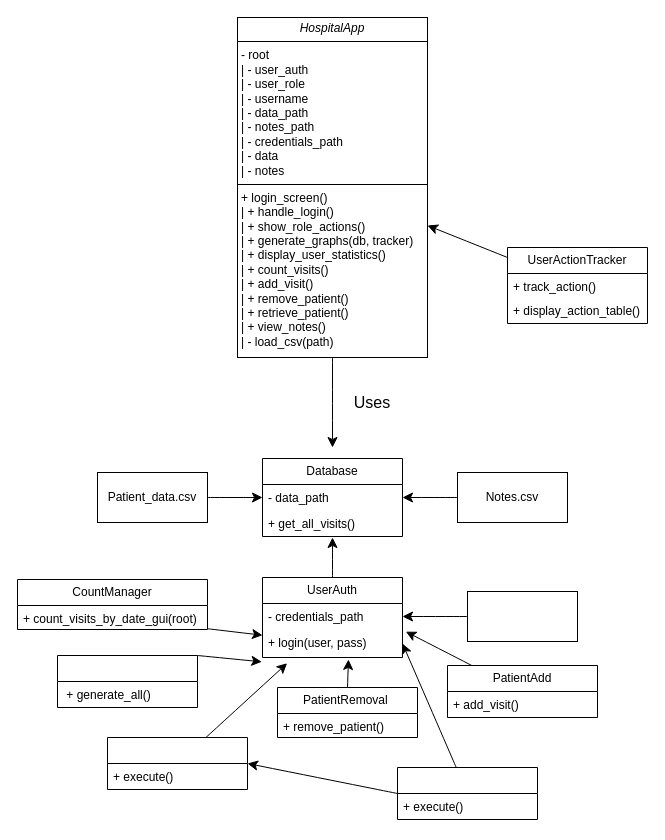
Some shapes in this 665 by 840 pixel diagram are drawn without their labels. Each missing label, with the box of its shape:
Credentials.csv: (466, 590, 578, 642)
GraphGenerator: (56, 654, 198, 708)
RetrievePatient: (396, 766, 538, 820)
ViewNotes: (106, 736, 248, 790)
